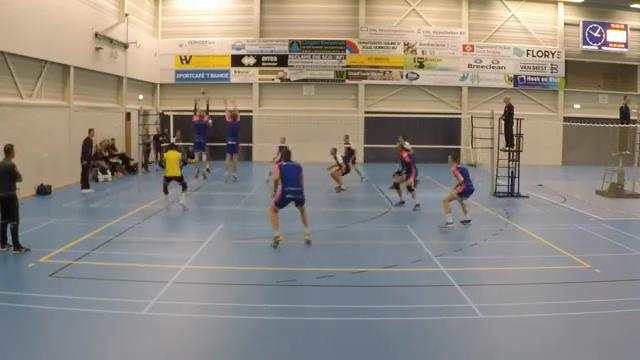Block: (187, 92, 215, 182), (219, 95, 244, 186)
Player: (269, 149, 310, 248), (441, 153, 473, 227), (392, 144, 419, 210), (160, 143, 187, 209), (327, 147, 350, 192), (343, 134, 364, 180), (397, 135, 414, 161), (272, 137, 288, 164), (398, 135, 412, 154)
ball: (199, 88, 208, 95)
